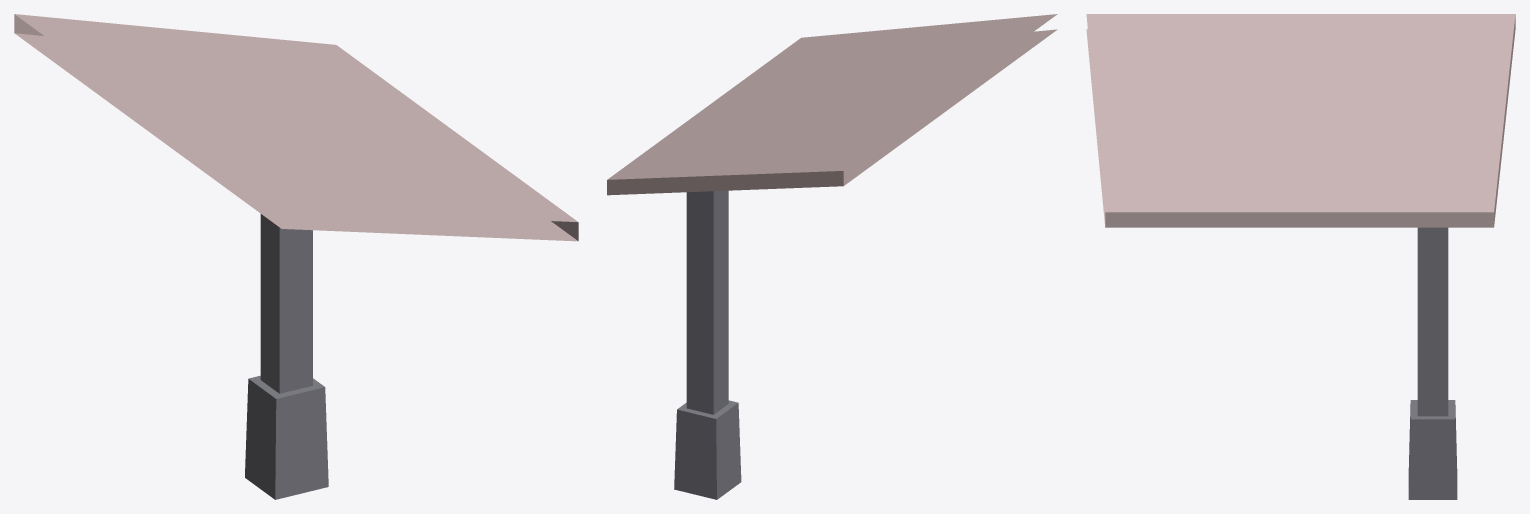
The model's file is roof_corner_3.fbx.
3 renders of one model, left to right at view 1: azimuth 30°, elevation 25°; view 2: azimuth 150°, elevation 25°; view 3: azimuth 270°, elevation 25°, orthographic. The views are drawn at different scales.
Visible parts, largest first — view 1: roof_corner_3; view 2: roof_corner_3; view 3: roof_corner_3.
Part boxes in pixels (bbox=[...]): roof_corner_3: bbox=[14, 14, 578, 499]; roof_corner_3: bbox=[607, 14, 1057, 499]; roof_corner_3: bbox=[1086, 14, 1515, 499].
Bounding box in the file's own units: 400 × 600 × 600.
